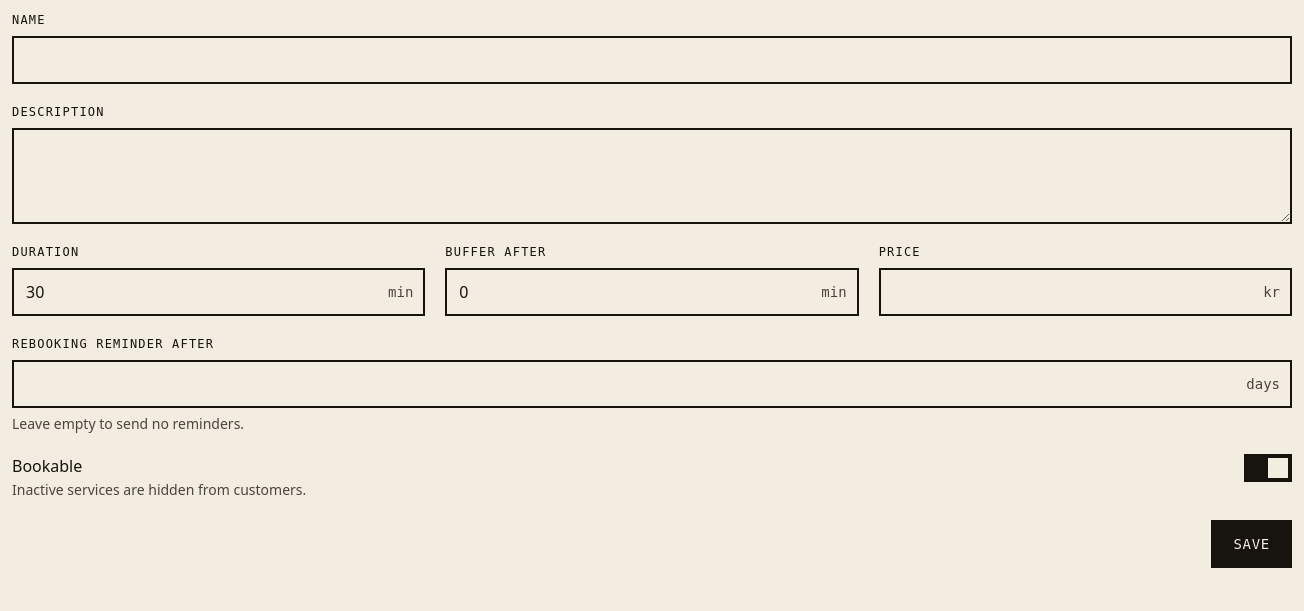
Scenario: ServiceForm › rejects durations that are not in steps of five minutes
The width and height of the screenshot is (1304, 611).
Type "Trim" into the field labelled "Name" at point(652, 60), box [12, 36, 1292, 84]
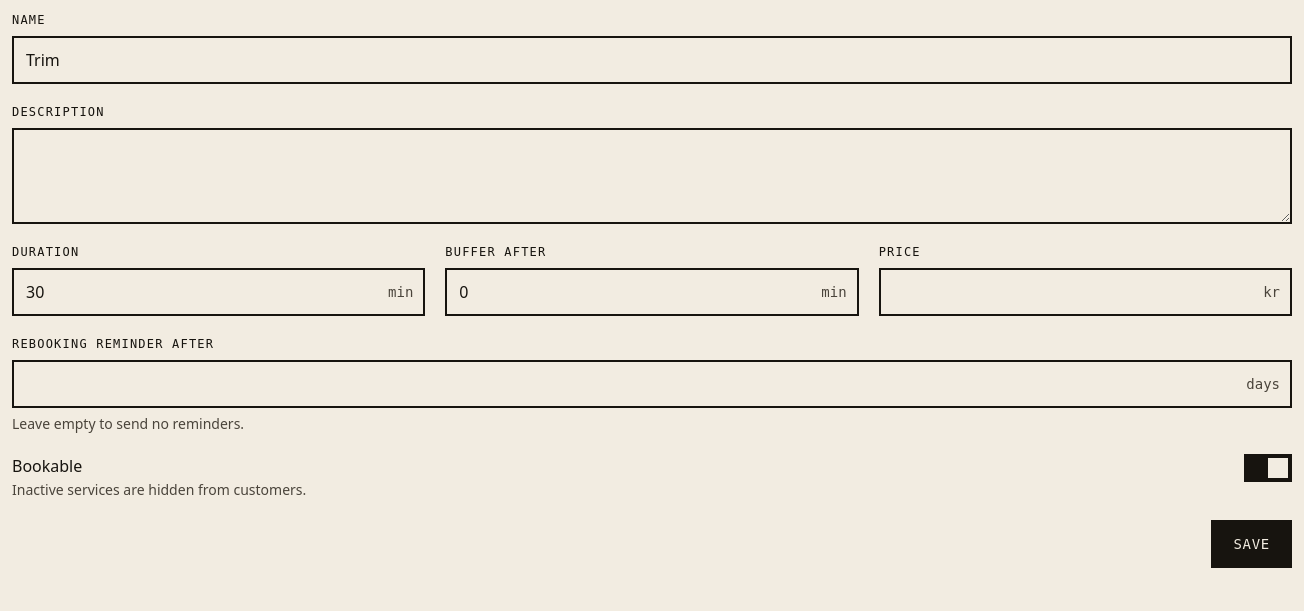
Replace the text in the field labelled "Duration" with "32" at point(219, 292), box [12, 268, 425, 316]
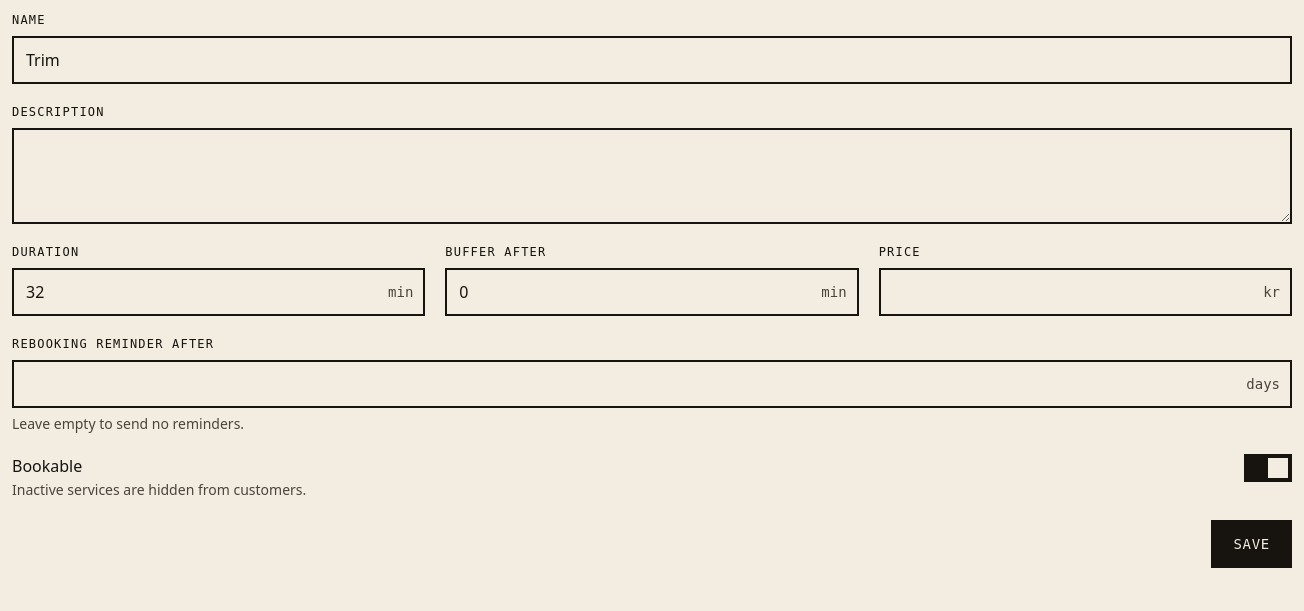
Type "200" into the field labelled "Price" at point(1085, 292), box [879, 268, 1292, 316]
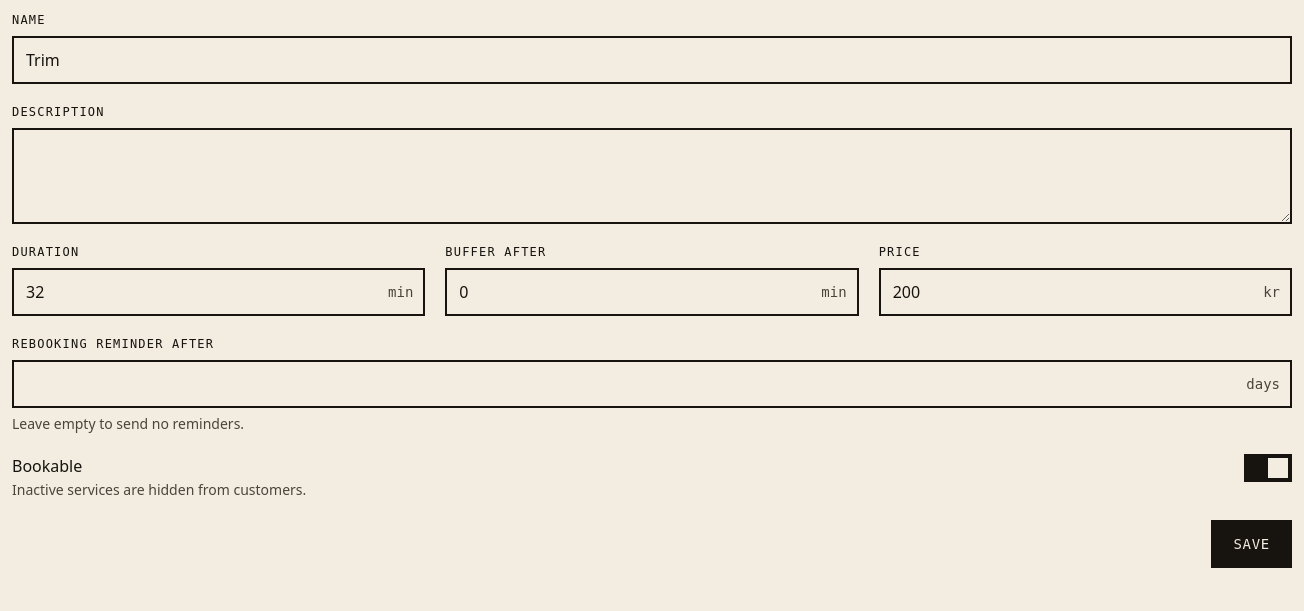
Submit the form
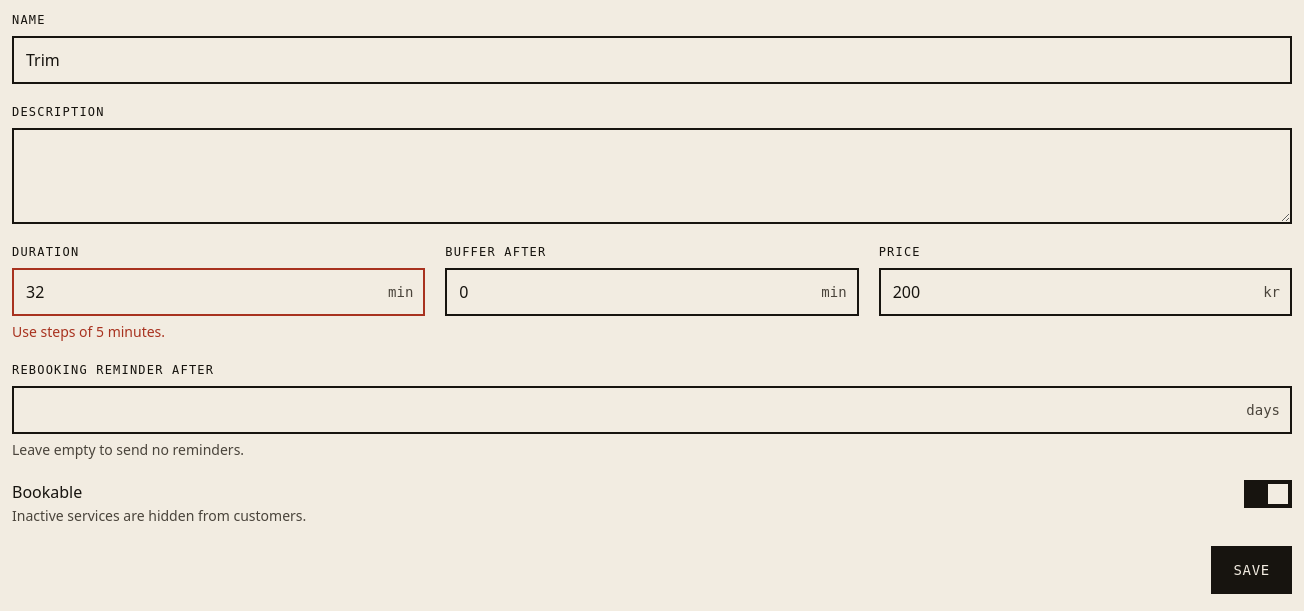
Check: the form shows "Use steps of 5 minutes.", box [12, 322, 165, 341]
